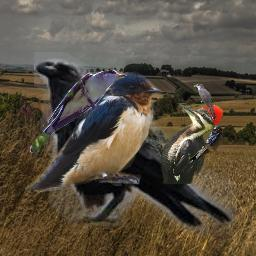Crow: (34, 52, 236, 235)
Cuckoo: (30, 69, 127, 153), (193, 83, 217, 120)
Swallow: (25, 71, 163, 193), (187, 126, 223, 172)
Woodpecker: (149, 103, 223, 184)
